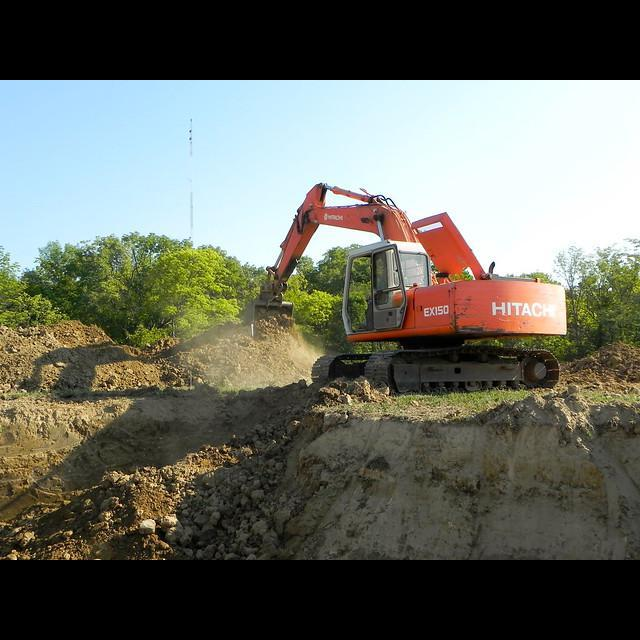Excavator: (246, 182, 567, 393)
Person: (359, 273, 390, 331)
